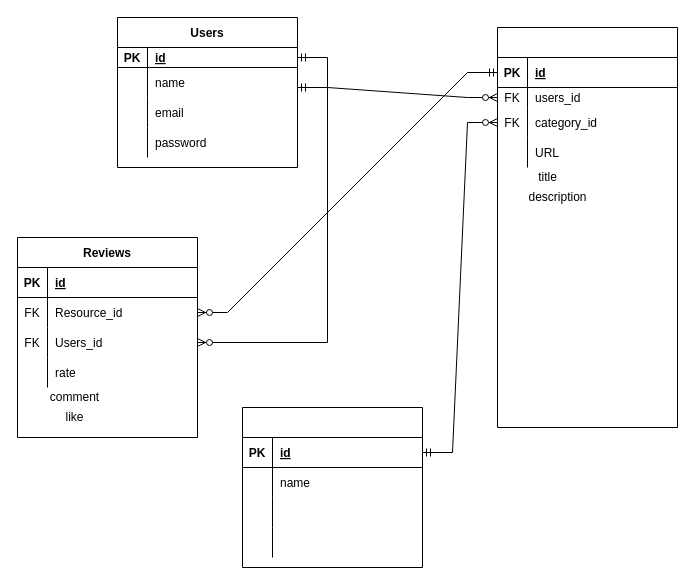
Some shapes in this 695 by 585 pixel diagram are drawn without their labels. The box of each missing label's shape, as (x1, y1, x2, y2) in pixels:
Category: (242, 406, 422, 568)
Resources: (496, 26, 678, 428)
